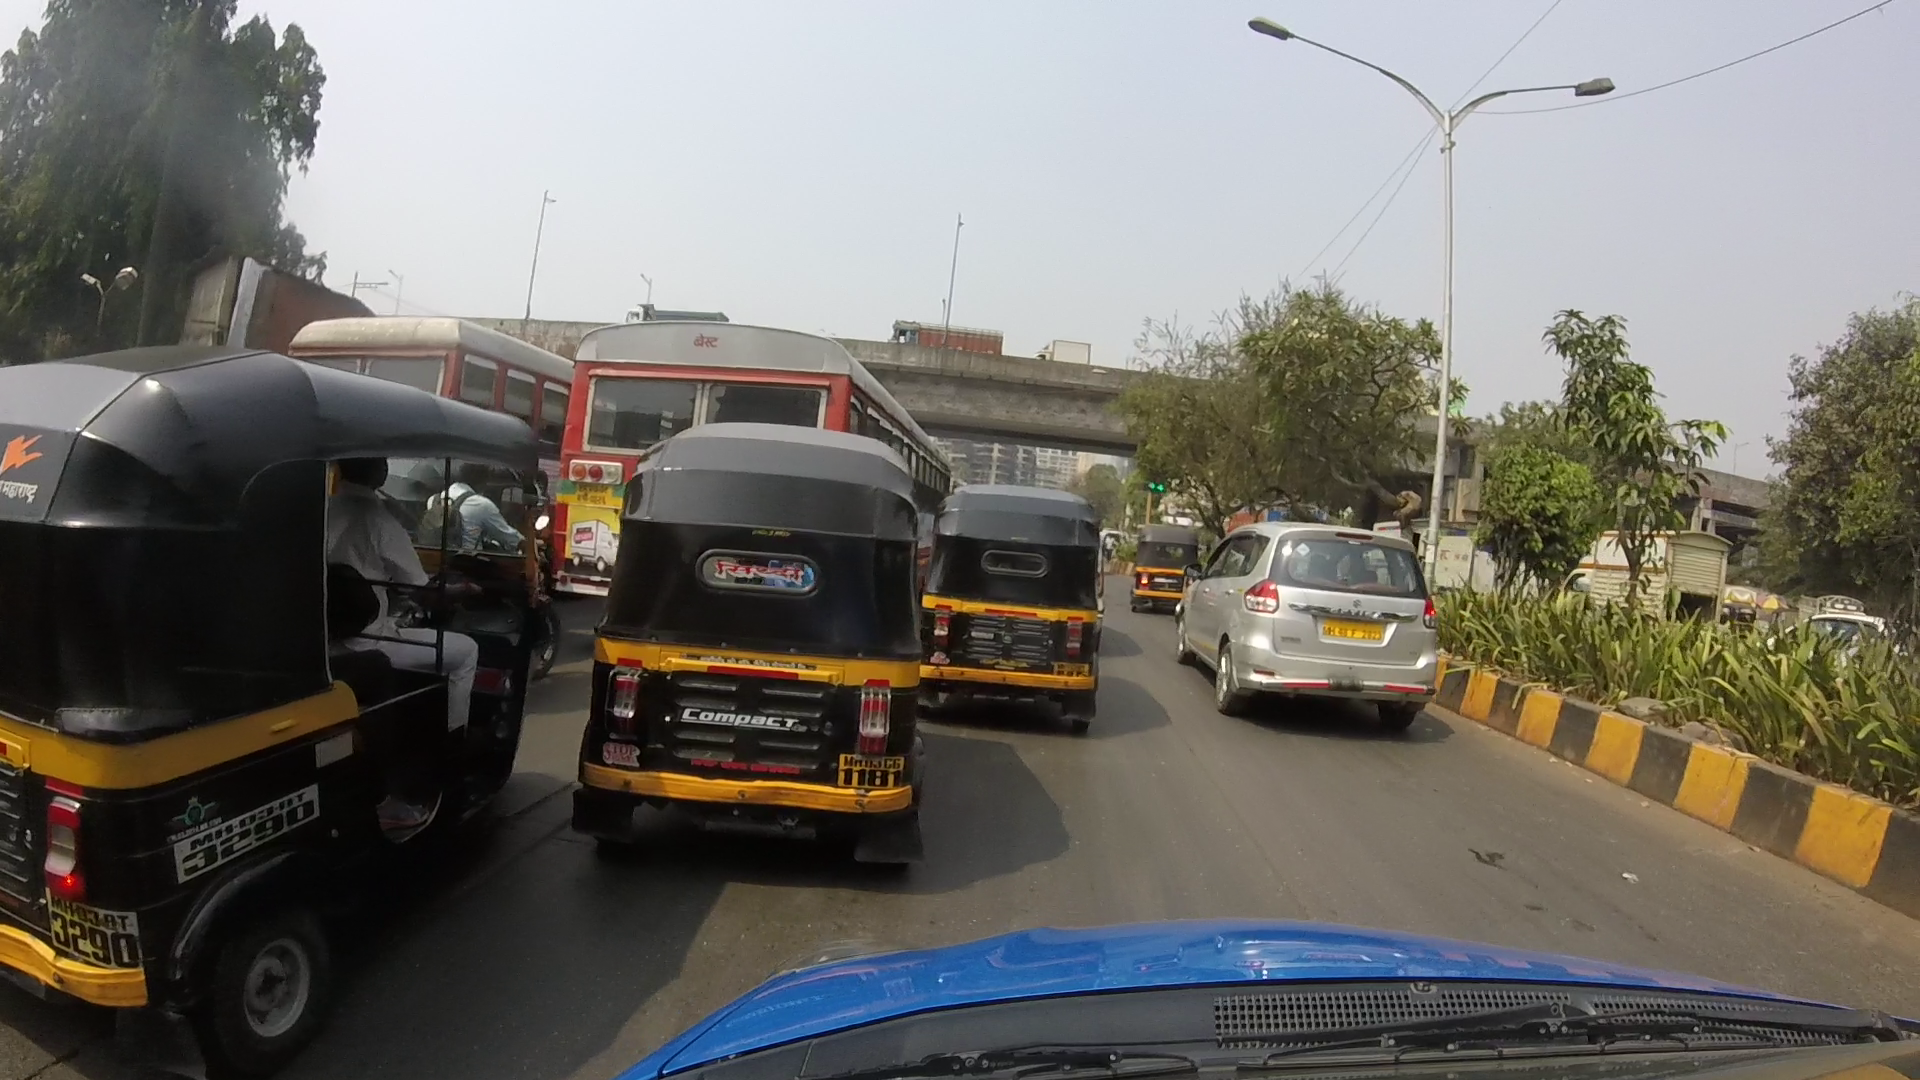bus: (549, 316, 945, 616), (277, 301, 580, 448)
car: (1174, 506, 1468, 766)
rickshaw: (11, 353, 545, 1060), (578, 425, 939, 857), (905, 463, 1127, 735), (1116, 513, 1212, 622)
